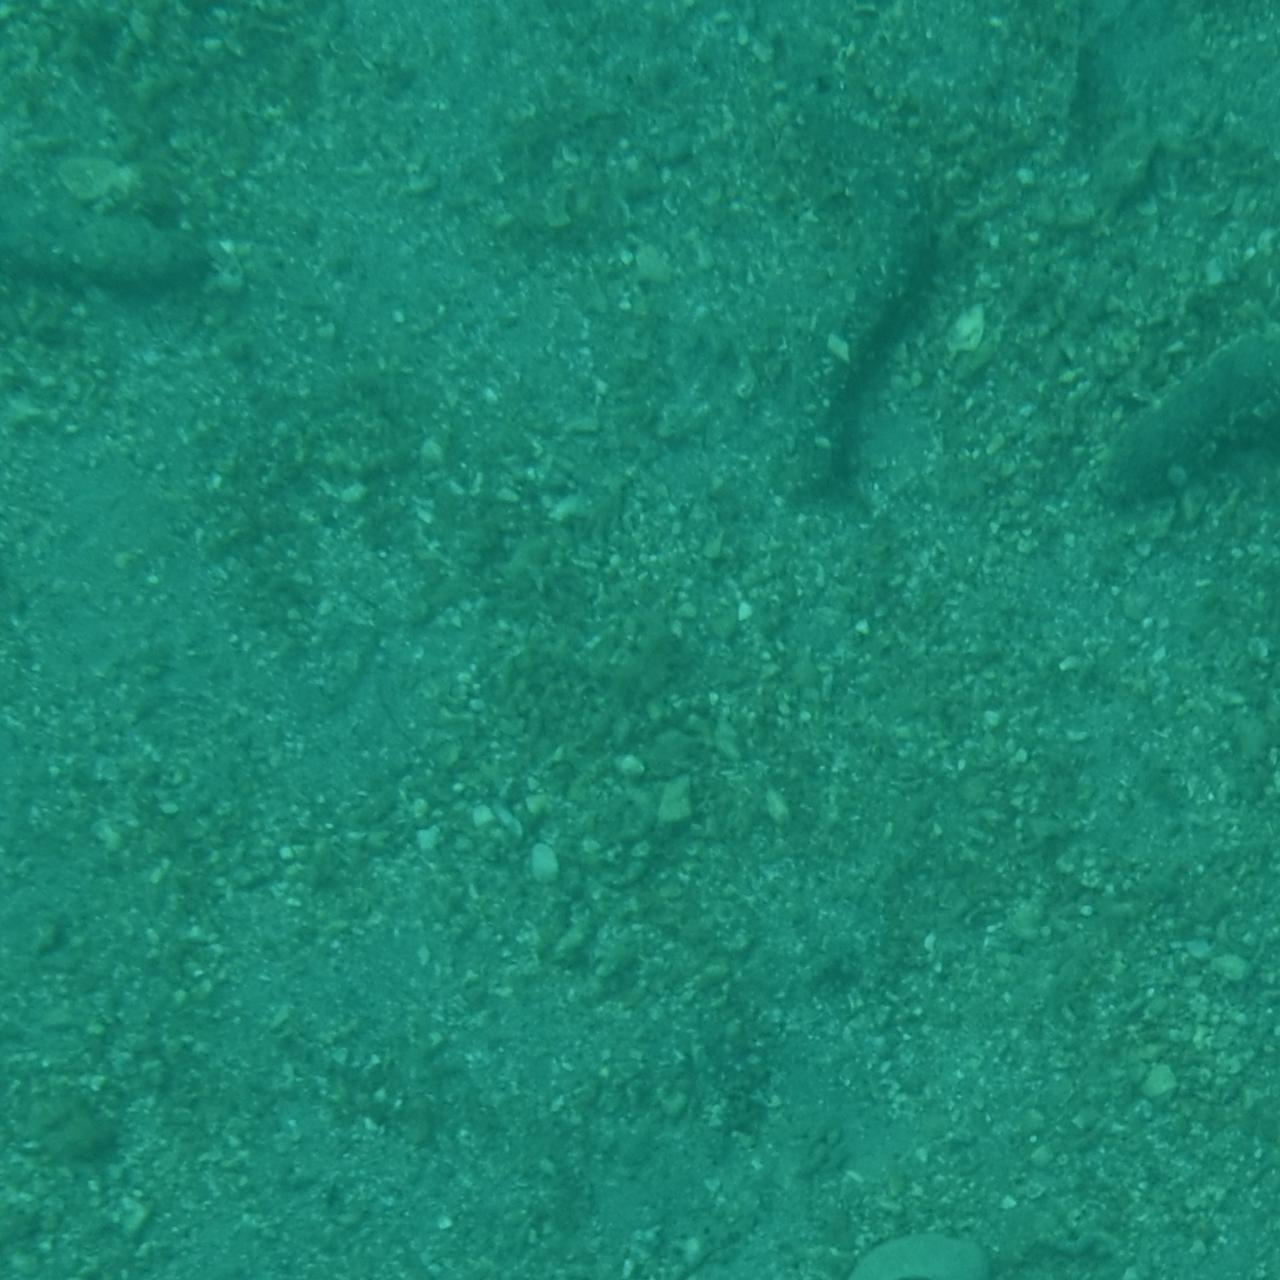Holothuria tubulosa: (756, 166, 996, 486), (633, 1175, 1091, 1280), (1087, 307, 1280, 520), (0, 125, 236, 294), (1098, 0, 1280, 177), (1000, 1200, 1280, 1280)
